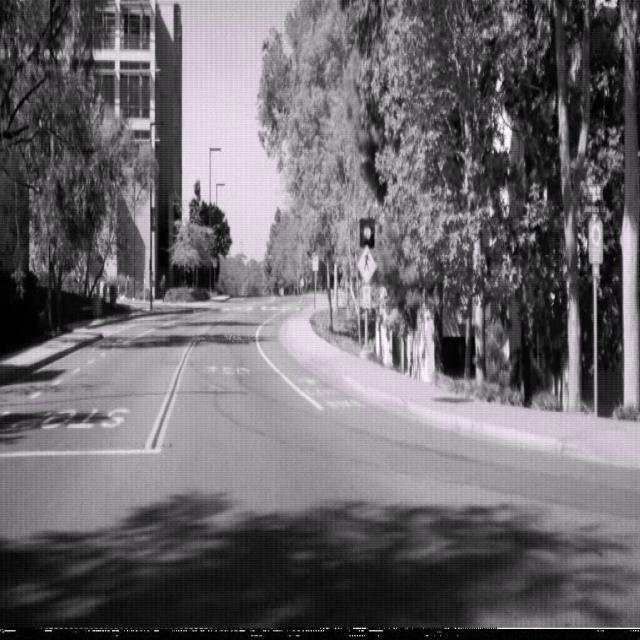pedestrianCrossing: (356, 242, 378, 286)
